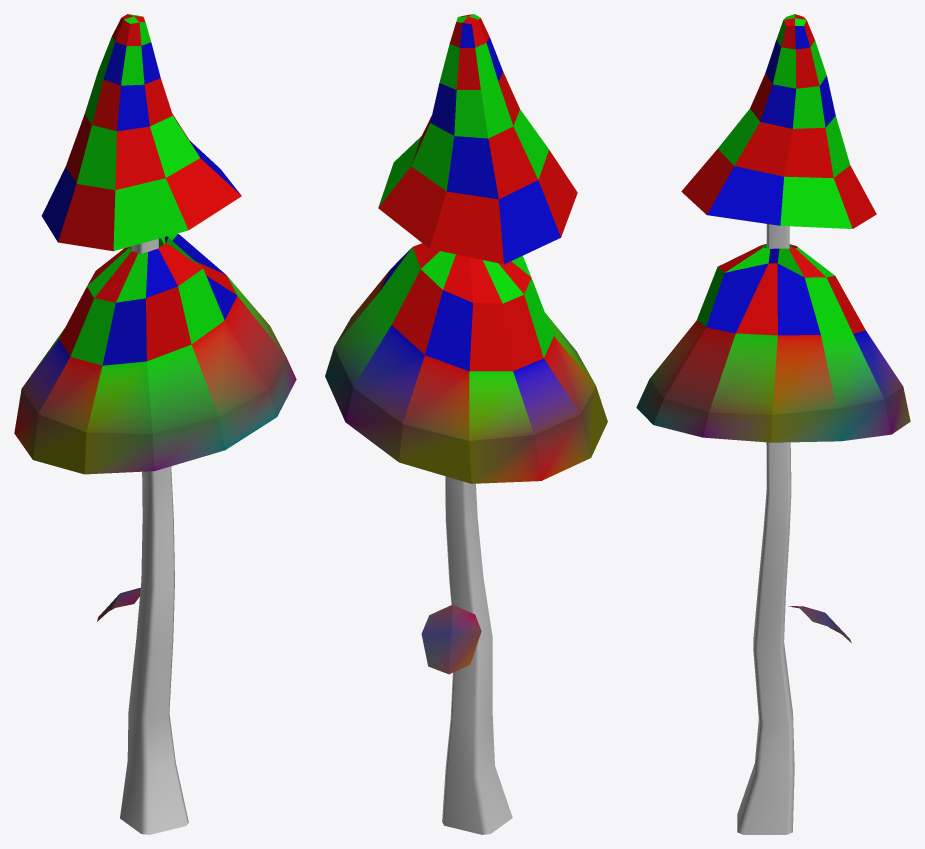
Rendered from Tree_D_04.fbx.
The picture shows the model from 3 angles, left to right: view 1: azimuth 30°, elevation 25°; view 2: azimuth 150°, elevation 25°; view 3: azimuth 270°, elevation 25°; orthographic projection. The views are drawn at different scales.
Visible parts, largest first — view 1: Tree_D_04_Leaves, Tree_D_04_Trunk; view 2: Tree_D_04_Leaves, Tree_D_04_Trunk; view 3: Tree_D_04_Leaves, Tree_D_04_Trunk.
Boxes of the visible parts, x1=… form: Tree_D_04_Leaves: x1=14, y1=14, x2=296, y2=621; Tree_D_04_Trunk: x1=120, y1=238, x2=188, y2=834; Tree_D_04_Leaves: x1=325, y1=14, x2=607, y2=674; Tree_D_04_Trunk: x1=442, y1=476, x2=512, y2=834; Tree_D_04_Leaves: x1=636, y1=14, x2=910, y2=643; Tree_D_04_Trunk: x1=737, y1=224, x2=794, y2=834.
Bounding box in the file's own units: 1.62 × 5.05 × 1.56.
